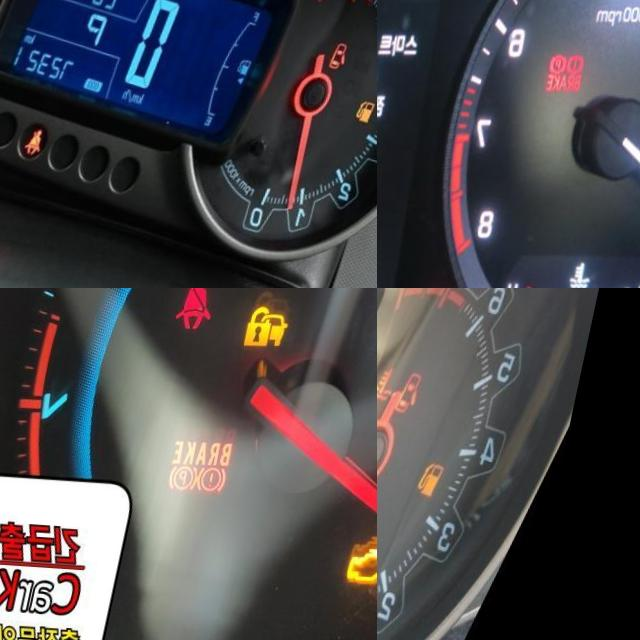Doors: (411, 361, 445, 408), (341, 34, 369, 66)
Engine cooling system: (383, 354, 420, 394)
LaneCenteringOff: (377, 264, 393, 288)
Low fuel level: (434, 450, 468, 490), (370, 91, 377, 116)
